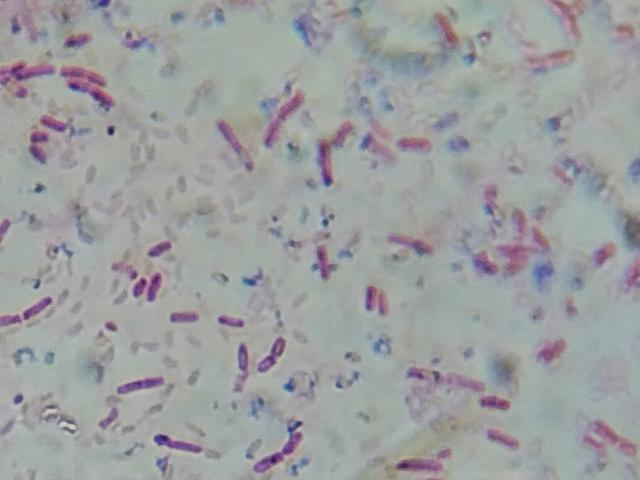E. coli: (409, 363, 483, 389), (218, 120, 255, 172), (544, 0, 587, 38), (588, 422, 629, 460), (431, 11, 462, 55), (116, 373, 168, 396), (6, 55, 50, 81), (156, 435, 213, 455), (70, 81, 114, 105), (479, 181, 503, 222), (526, 47, 568, 70), (383, 233, 428, 254), (398, 452, 444, 472), (310, 243, 334, 279), (238, 338, 254, 390), (395, 131, 428, 155), (256, 450, 285, 477), (621, 255, 640, 296), (65, 61, 108, 79), (143, 270, 164, 306), (365, 284, 390, 314), (61, 23, 92, 47), (490, 428, 522, 451), (27, 295, 56, 320), (480, 258, 520, 276), (318, 137, 334, 181), (590, 238, 611, 268), (142, 239, 172, 258), (511, 210, 530, 240), (531, 228, 551, 256), (540, 337, 563, 360), (168, 310, 200, 326), (42, 112, 67, 132), (501, 243, 534, 258), (282, 430, 301, 456), (100, 409, 122, 431), (27, 145, 57, 161), (479, 392, 509, 408), (219, 311, 244, 330), (0, 308, 23, 328), (334, 120, 354, 143), (0, 212, 14, 244), (258, 352, 274, 377), (133, 273, 144, 299), (273, 336, 287, 356), (31, 131, 53, 143)
